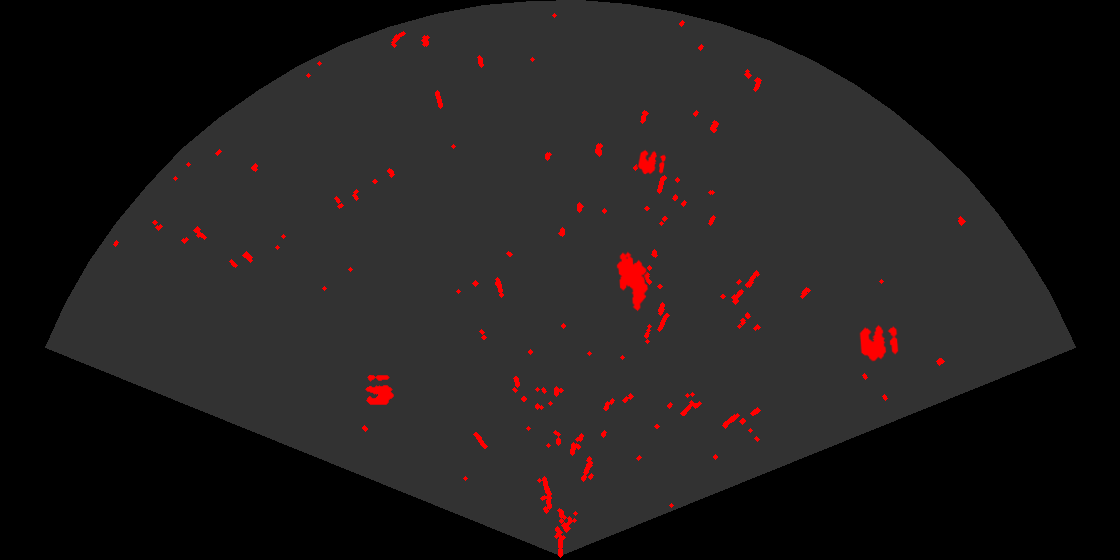AUV: (615, 250, 650, 313)
ball: (858, 323, 900, 363), (364, 373, 395, 406), (636, 148, 668, 176)
